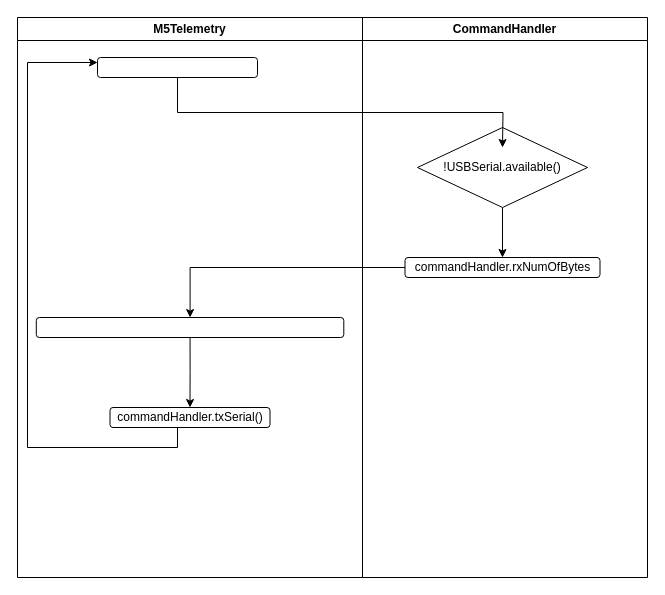
The diagram is 665 pixels wide and 595 high, and some of its shapes have lost their labels. The shapes that lost their labels are listed below. From the top down, each one's centre as x and y in pixels, then its label:
[177,67]: commandHandler.rxSerial()
[189,327]: commandLookupTable[(uint8_t)commandValue]();
